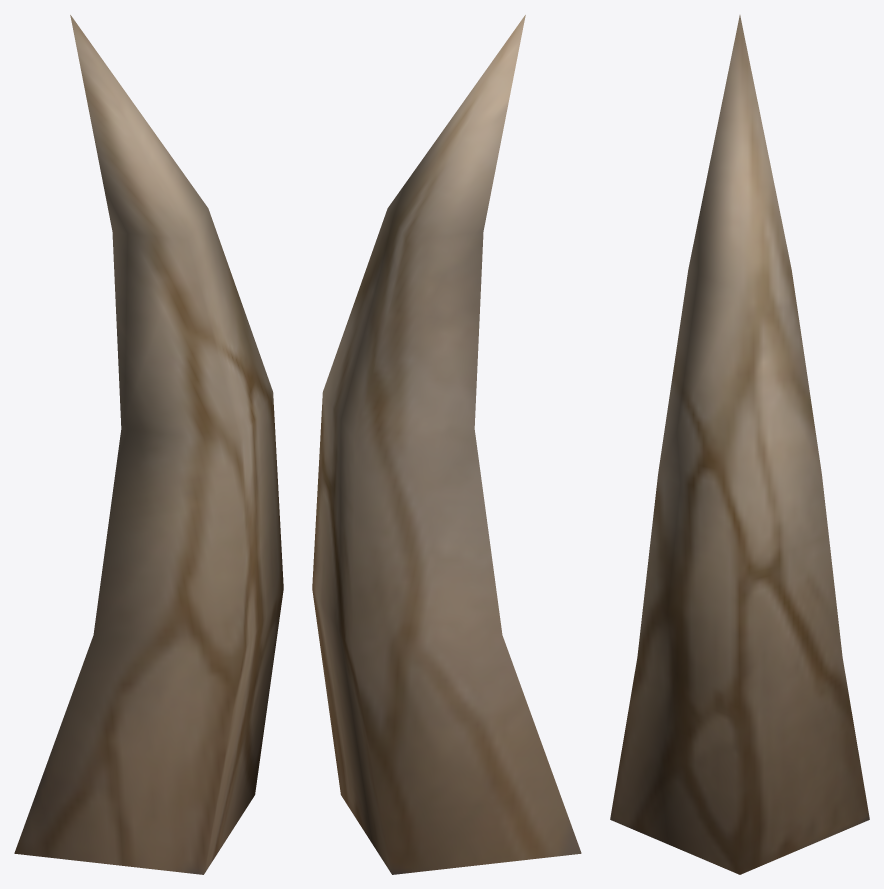
The model's file is desert_fence_3.FBX.
The picture shows the model from 3 angles, left to right: view 1: azimuth 30°, elevation 25°; view 2: azimuth 150°, elevation 25°; view 3: azimuth 270°, elevation 25°; orthographic projection. The views are drawn at different scales.
Visible parts, largest first — view 1: Object096; view 2: Object096; view 3: Object096.
Part boxes in pixels (<box>): Object096: <box>14,15,283,874</box>; Object096: <box>312,15,581,874</box>; Object096: <box>610,15,869,874</box>.
Bounding box in the file's own units: 18.21 × 16.18 × 53.33.
